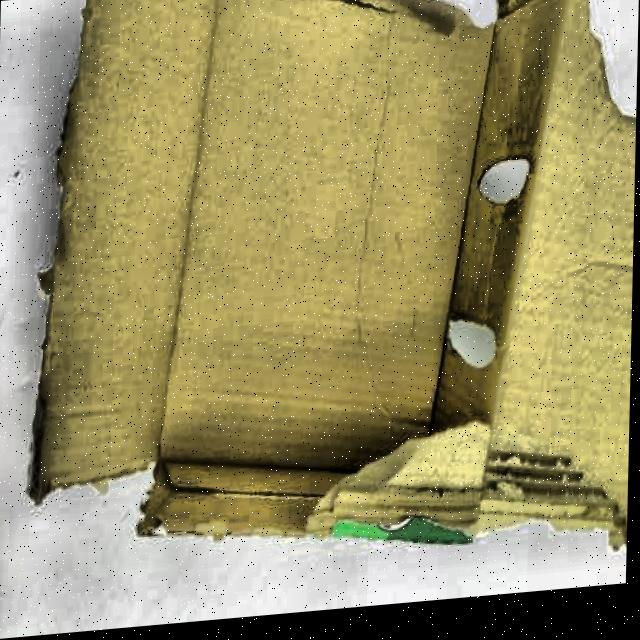cardboard: (24, 0, 640, 616)
